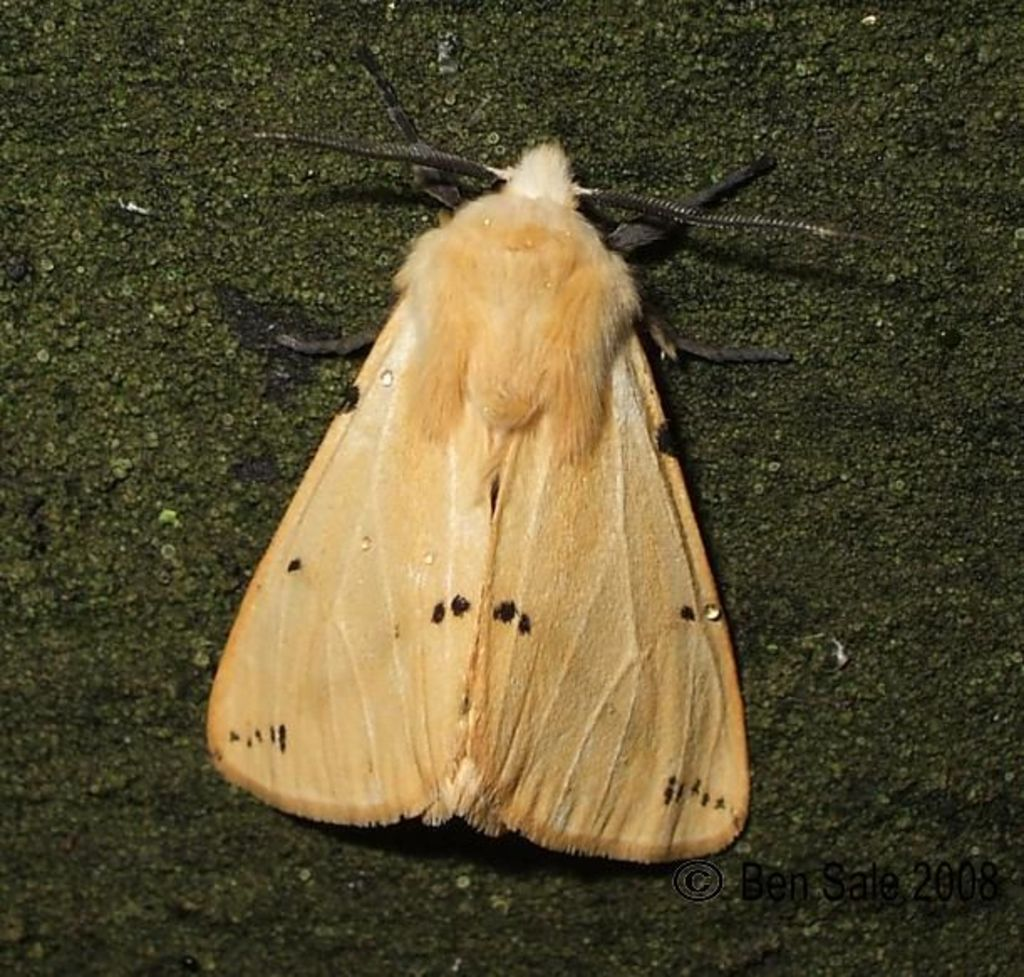Butterfly: (173, 81, 806, 898)
